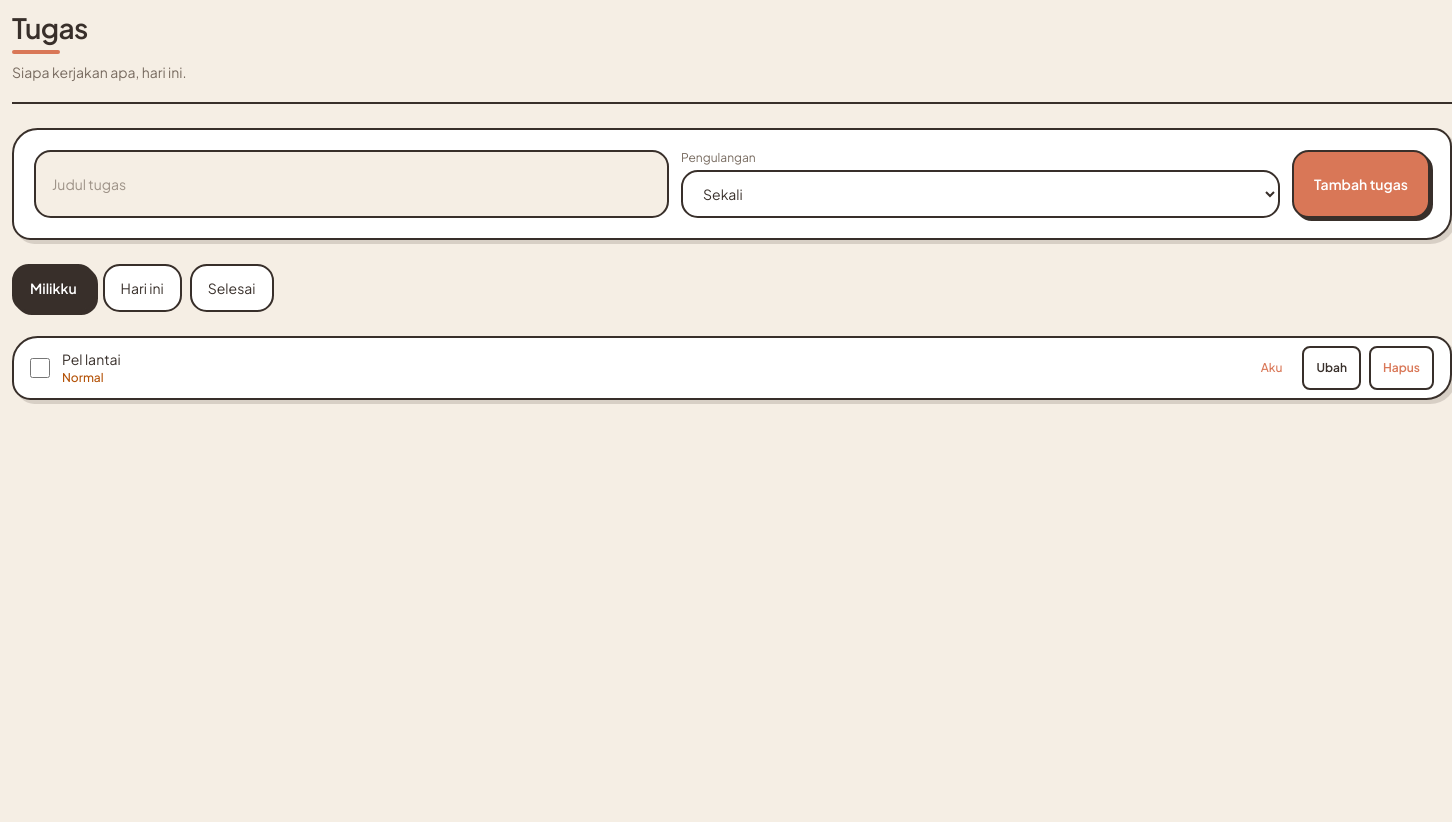
Test case: hapus confirm + DELETE terpanggil + item hilang
Expected: the text "Pel lantai" is shown, top-left (62, 350), bottom-right (121, 368)
Click the button "Hapus" at (1402, 368), box top-left (1369, 346), bottom-right (1434, 390)
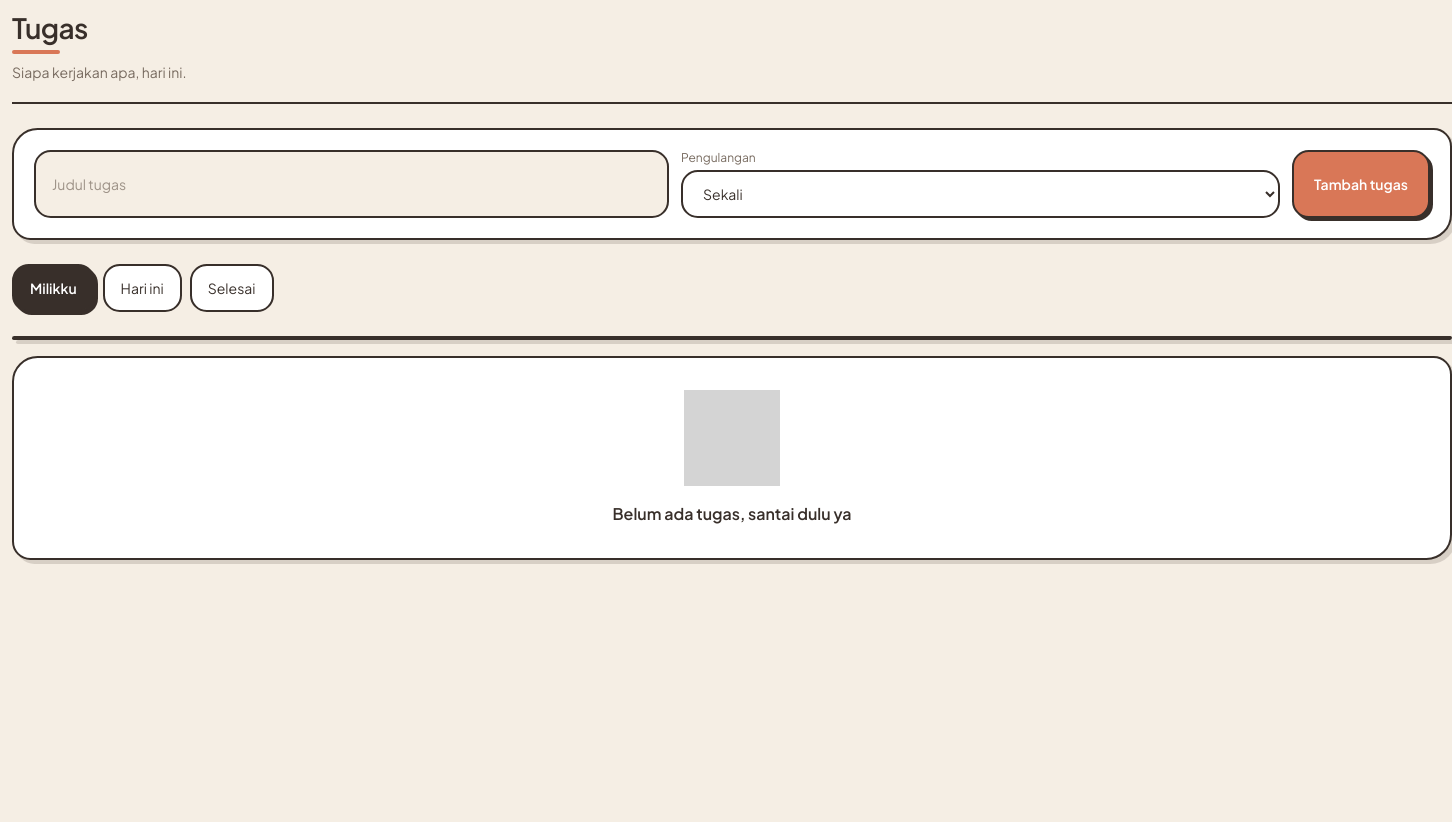
Expected: the text "Belum ada tugas, santai dulu ya" is shown, top-left (612, 503), bottom-right (851, 524)
